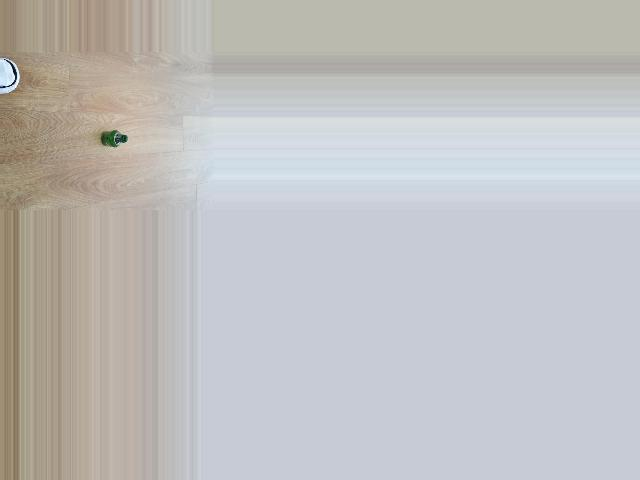beer: (100, 129, 127, 147)
